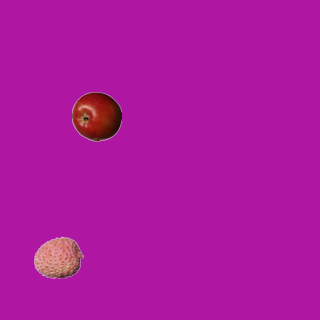Apple Braeburn: (71, 91, 121, 141)
Lychee: (33, 232, 83, 282)
